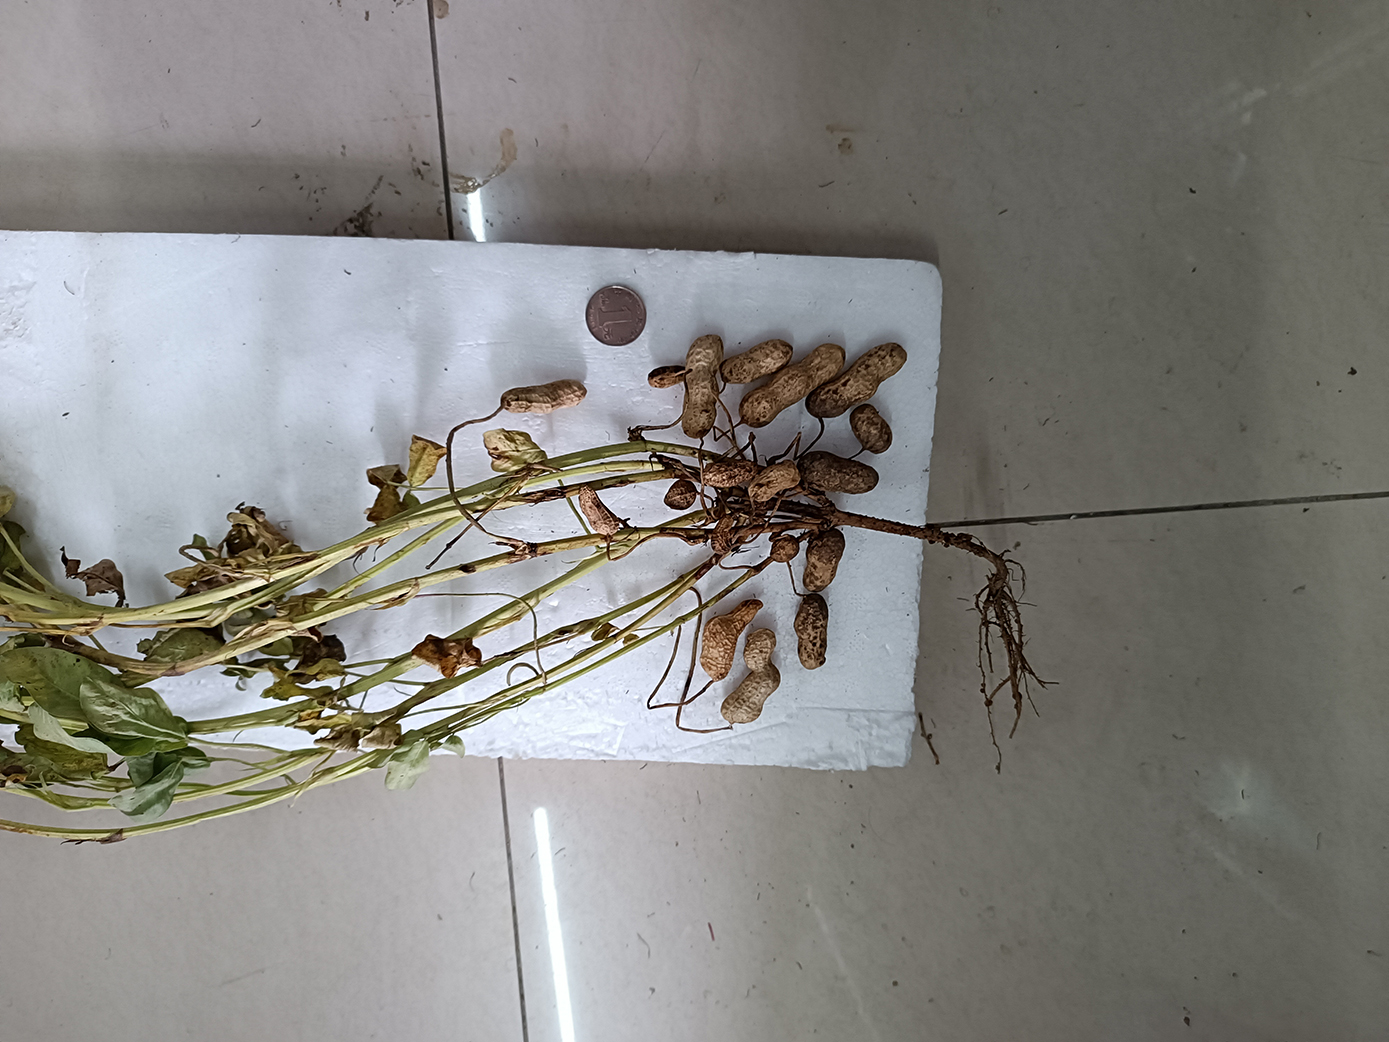h: (739, 341, 847, 428), (805, 341, 908, 417), (721, 628, 780, 722), (701, 597, 764, 680), (683, 334, 721, 437), (717, 340, 792, 384), (792, 594, 831, 668), (500, 380, 588, 412), (802, 529, 846, 591), (748, 458, 798, 503), (578, 485, 620, 539), (704, 460, 757, 487), (663, 481, 696, 511), (769, 534, 800, 563), (648, 366, 685, 389)
l: (796, 450, 881, 495), (848, 403, 893, 454)
